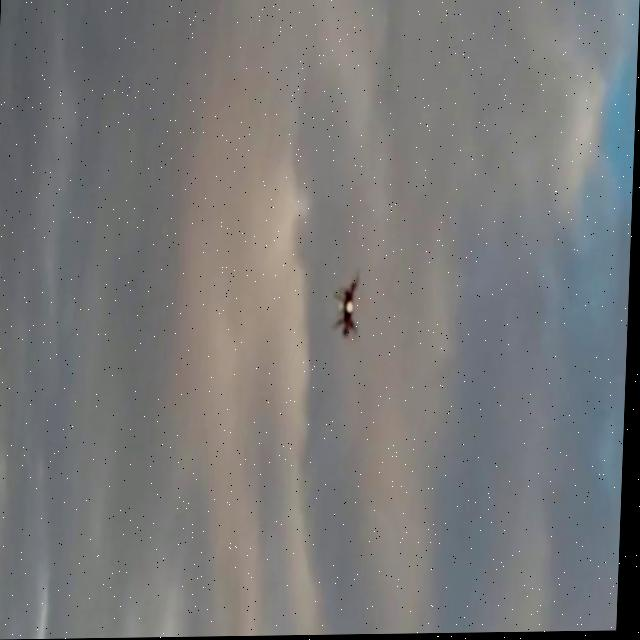drone: (332, 274, 369, 342)
